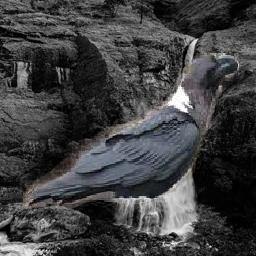Crow: (23, 53, 239, 209)
